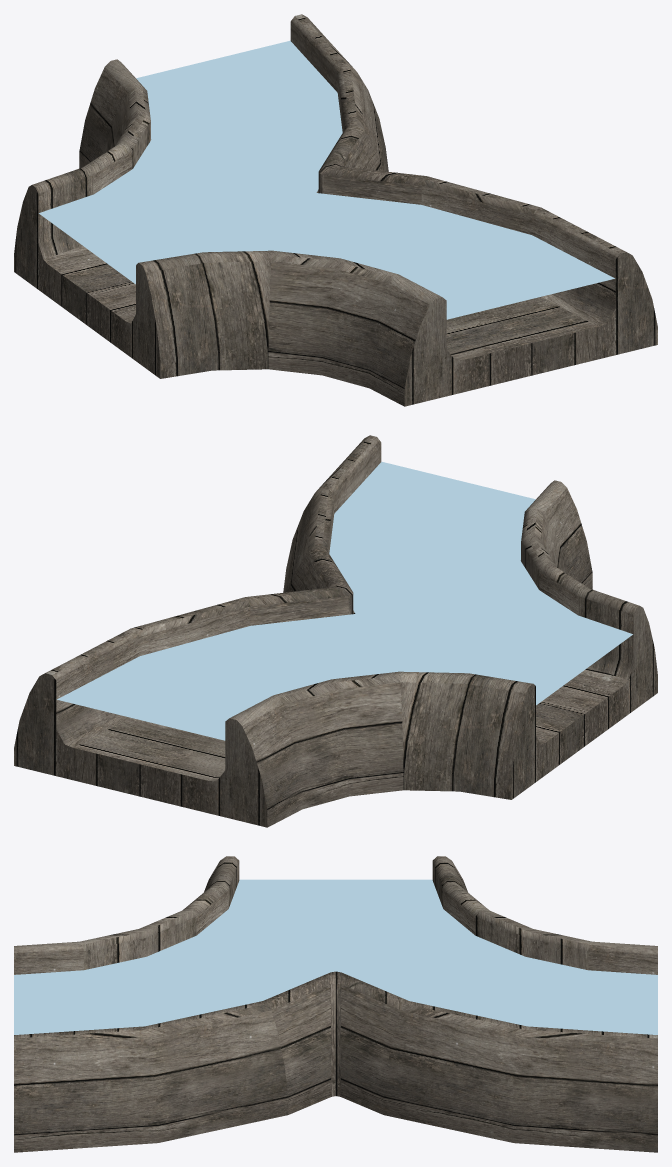
File: wye.glb
3 views of the same model, one above another, from view 1: azimuth 30°, elevation 25°; view 2: azimuth 150°, elevation 25°; view 3: azimuth 270°, elevation 25° (orthographic).
Visible parts, largest first — view 1: Channel, Water; view 2: Channel, Water; view 3: Channel, Water.
Boxes of the visible parts, <box> form: Channel: <box>14,14,657,406</box>; Water: <box>39,40,614,319</box>; Channel: <box>14,435,657,827</box>; Water: <box>57,461,632,740</box>; Channel: <box>14,856,657,1152</box>; Water: <box>14,879,657,1034</box>.
Size of the model in its own units: 1.45 by 0.34 by 2.
Materials: 2 (1 with a texture image).
